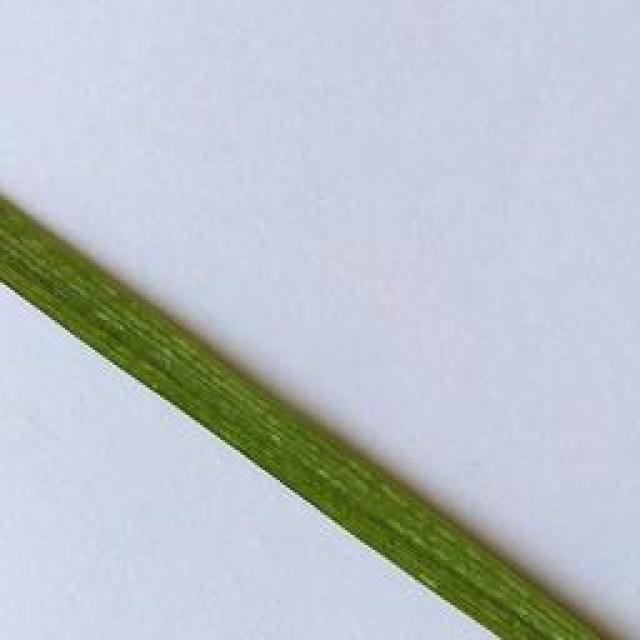Healthy-Plant: (0, 191, 603, 640)
